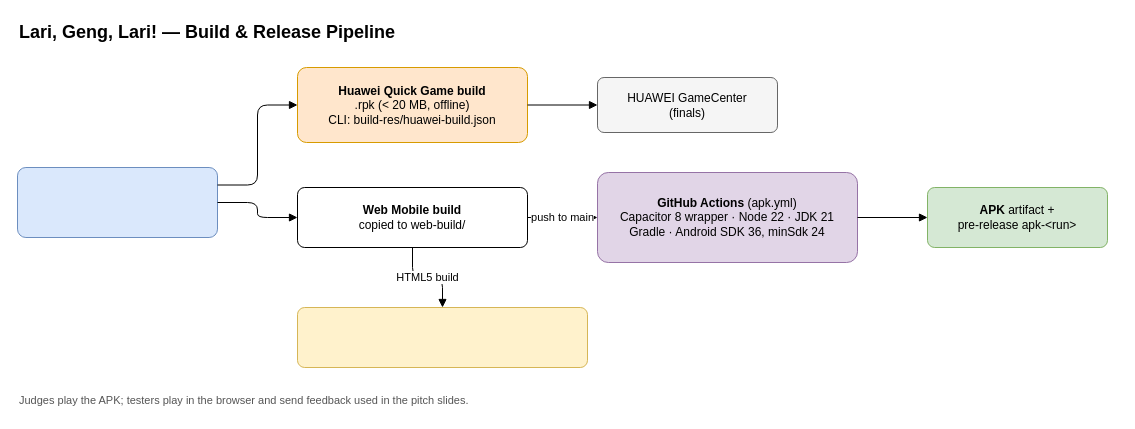
This 1135x429 diagram has some shape labels left out. Each missing label, with the centre of its shape:
"Cocos Creator project TypeScript · 720×1280 portrait" belongs at point (117, 202).
"Landing site (PHP, Hostinger) play in browser · feedback form · admin stats" belongs at point (442, 337).
